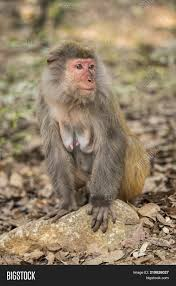monkey: (33, 22, 144, 235)
